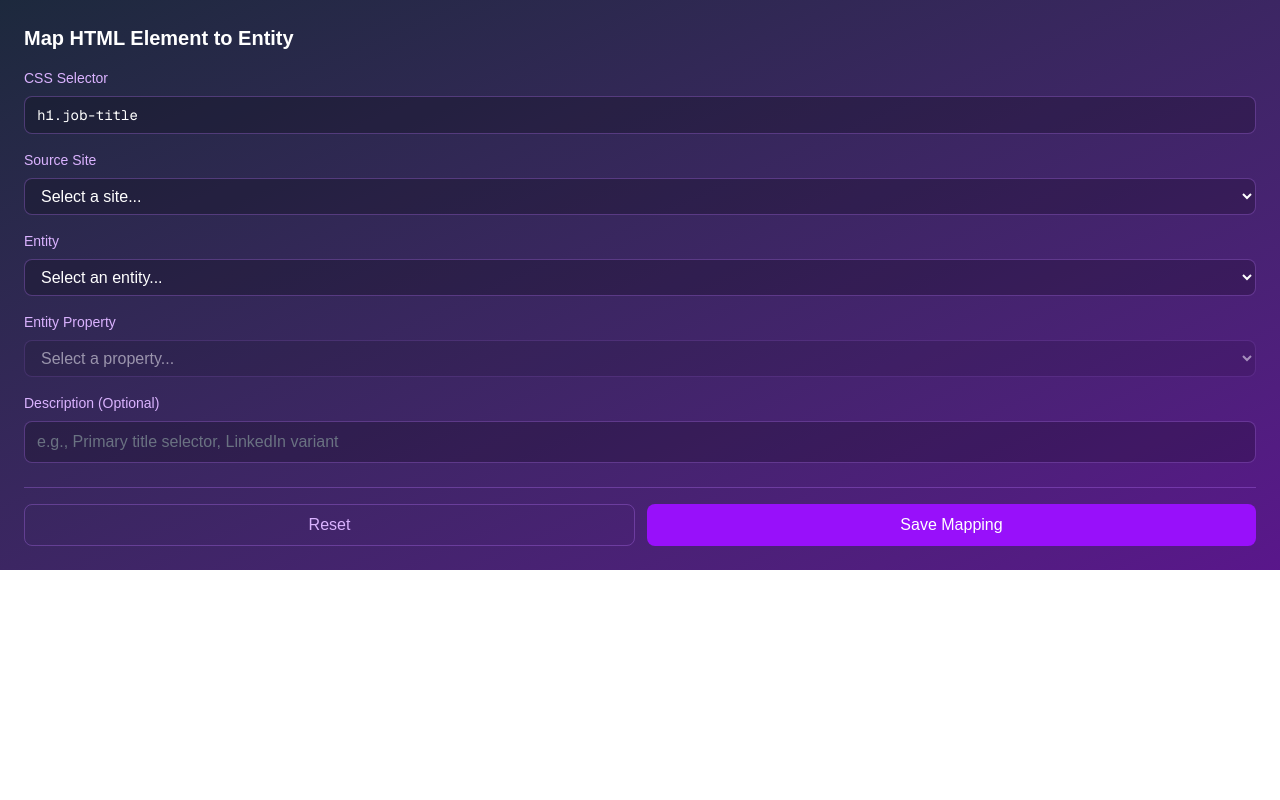
ValueMappingForm › form reset › should clear error messages when reset is clicked
Click the button "Save Mapping".
click(952, 525)  # box [647,504,1256,546]
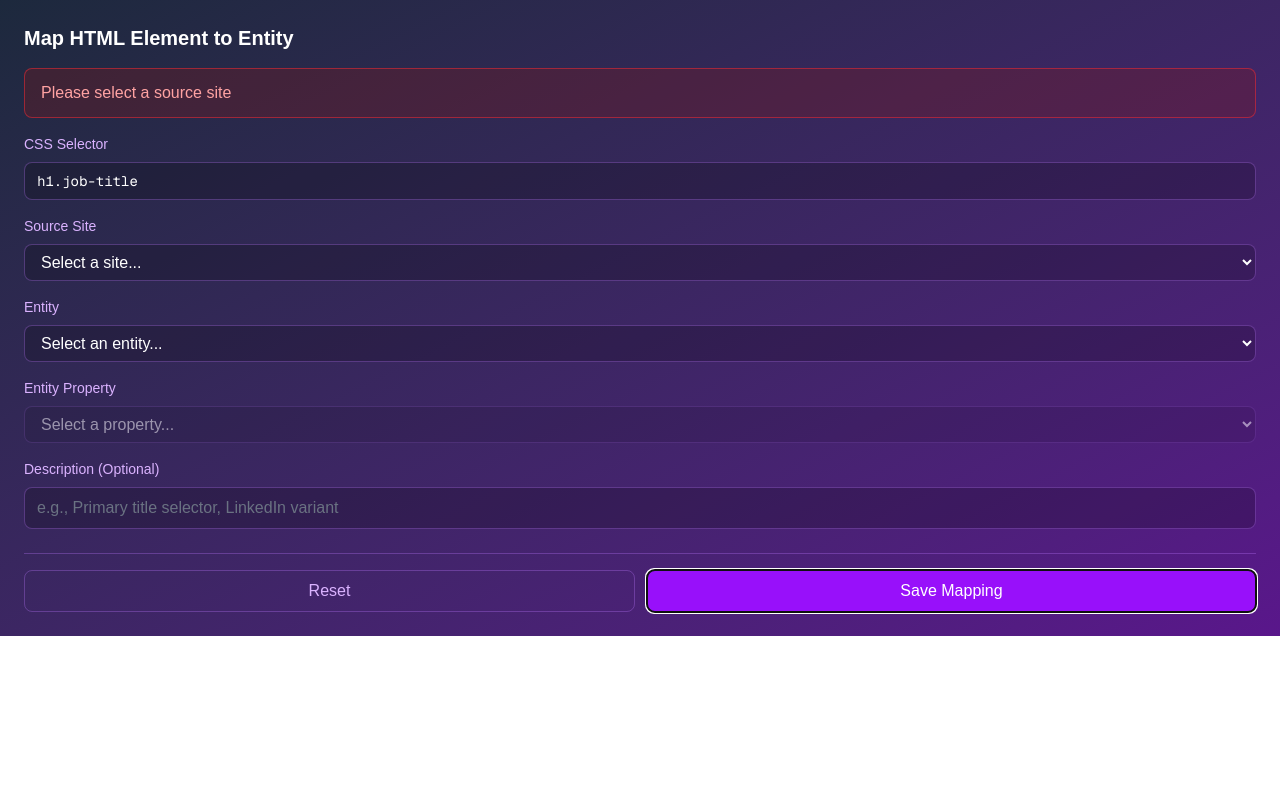
Expected: the text "Please select a source site" is shown, [24,68,1256,118]
Click the button "Reset".
click(330, 591)  # box [24,570,635,612]
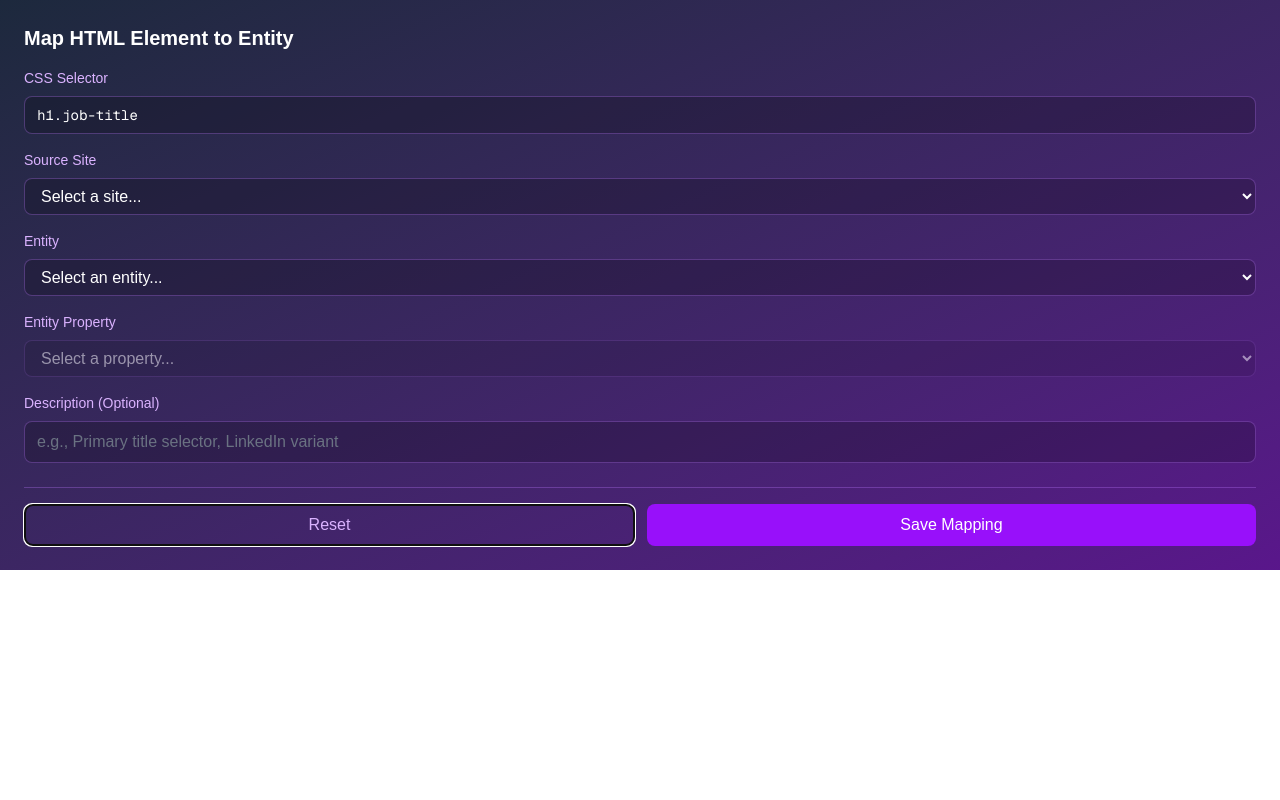
Expected: the text "Please select a source site" is gone
